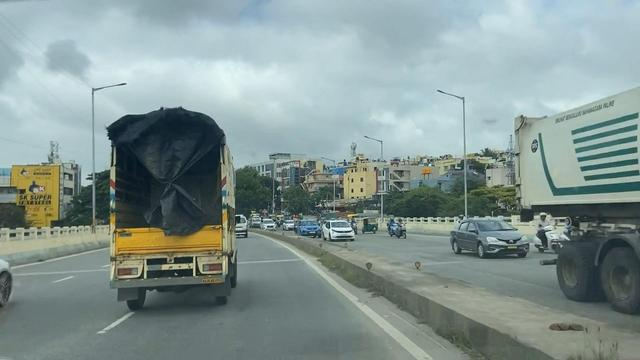HMV: (105, 102, 246, 317), (509, 79, 640, 309)
